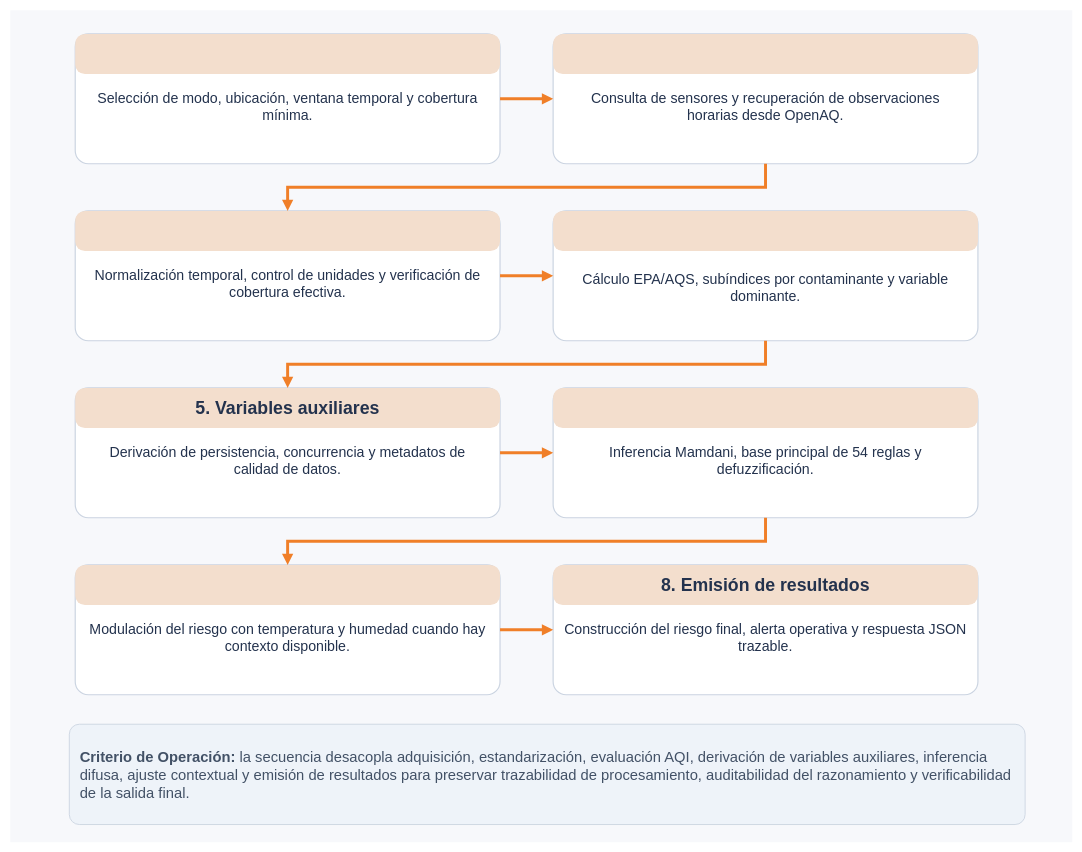
Image size: 1082x852. Some labels were removed from this diagram. Each missing label, with the centre of its shape:
1. Configuración de ejecución: [287,54]
2. Adquisición de datos: [765,54]
3. Estandarización: [287,231]
4. Evaluación AQI base: [765,231]
6. Inferencia difusa: [765,408]
7. Ajuste contextual: [287,585]
